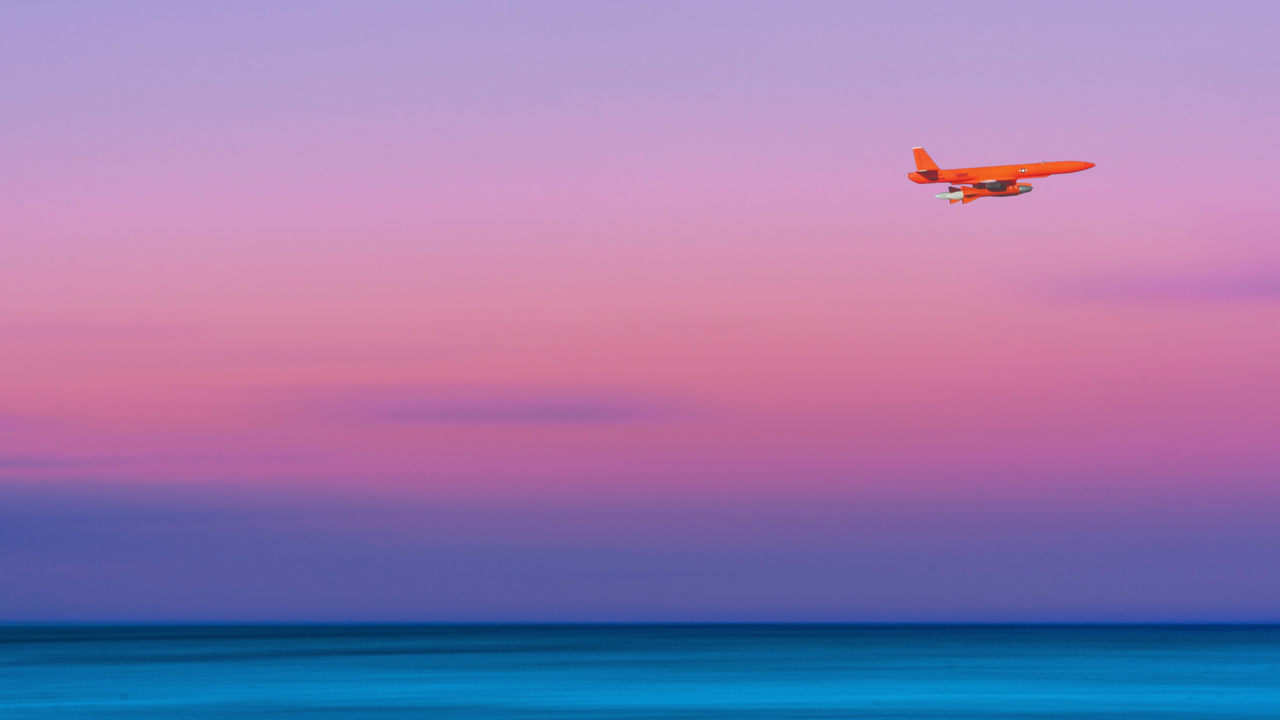military drone: (907, 146, 1095, 204)
